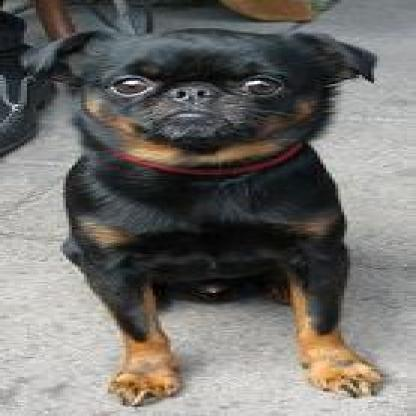Brabancon_griffon: (15, 24, 392, 409)
